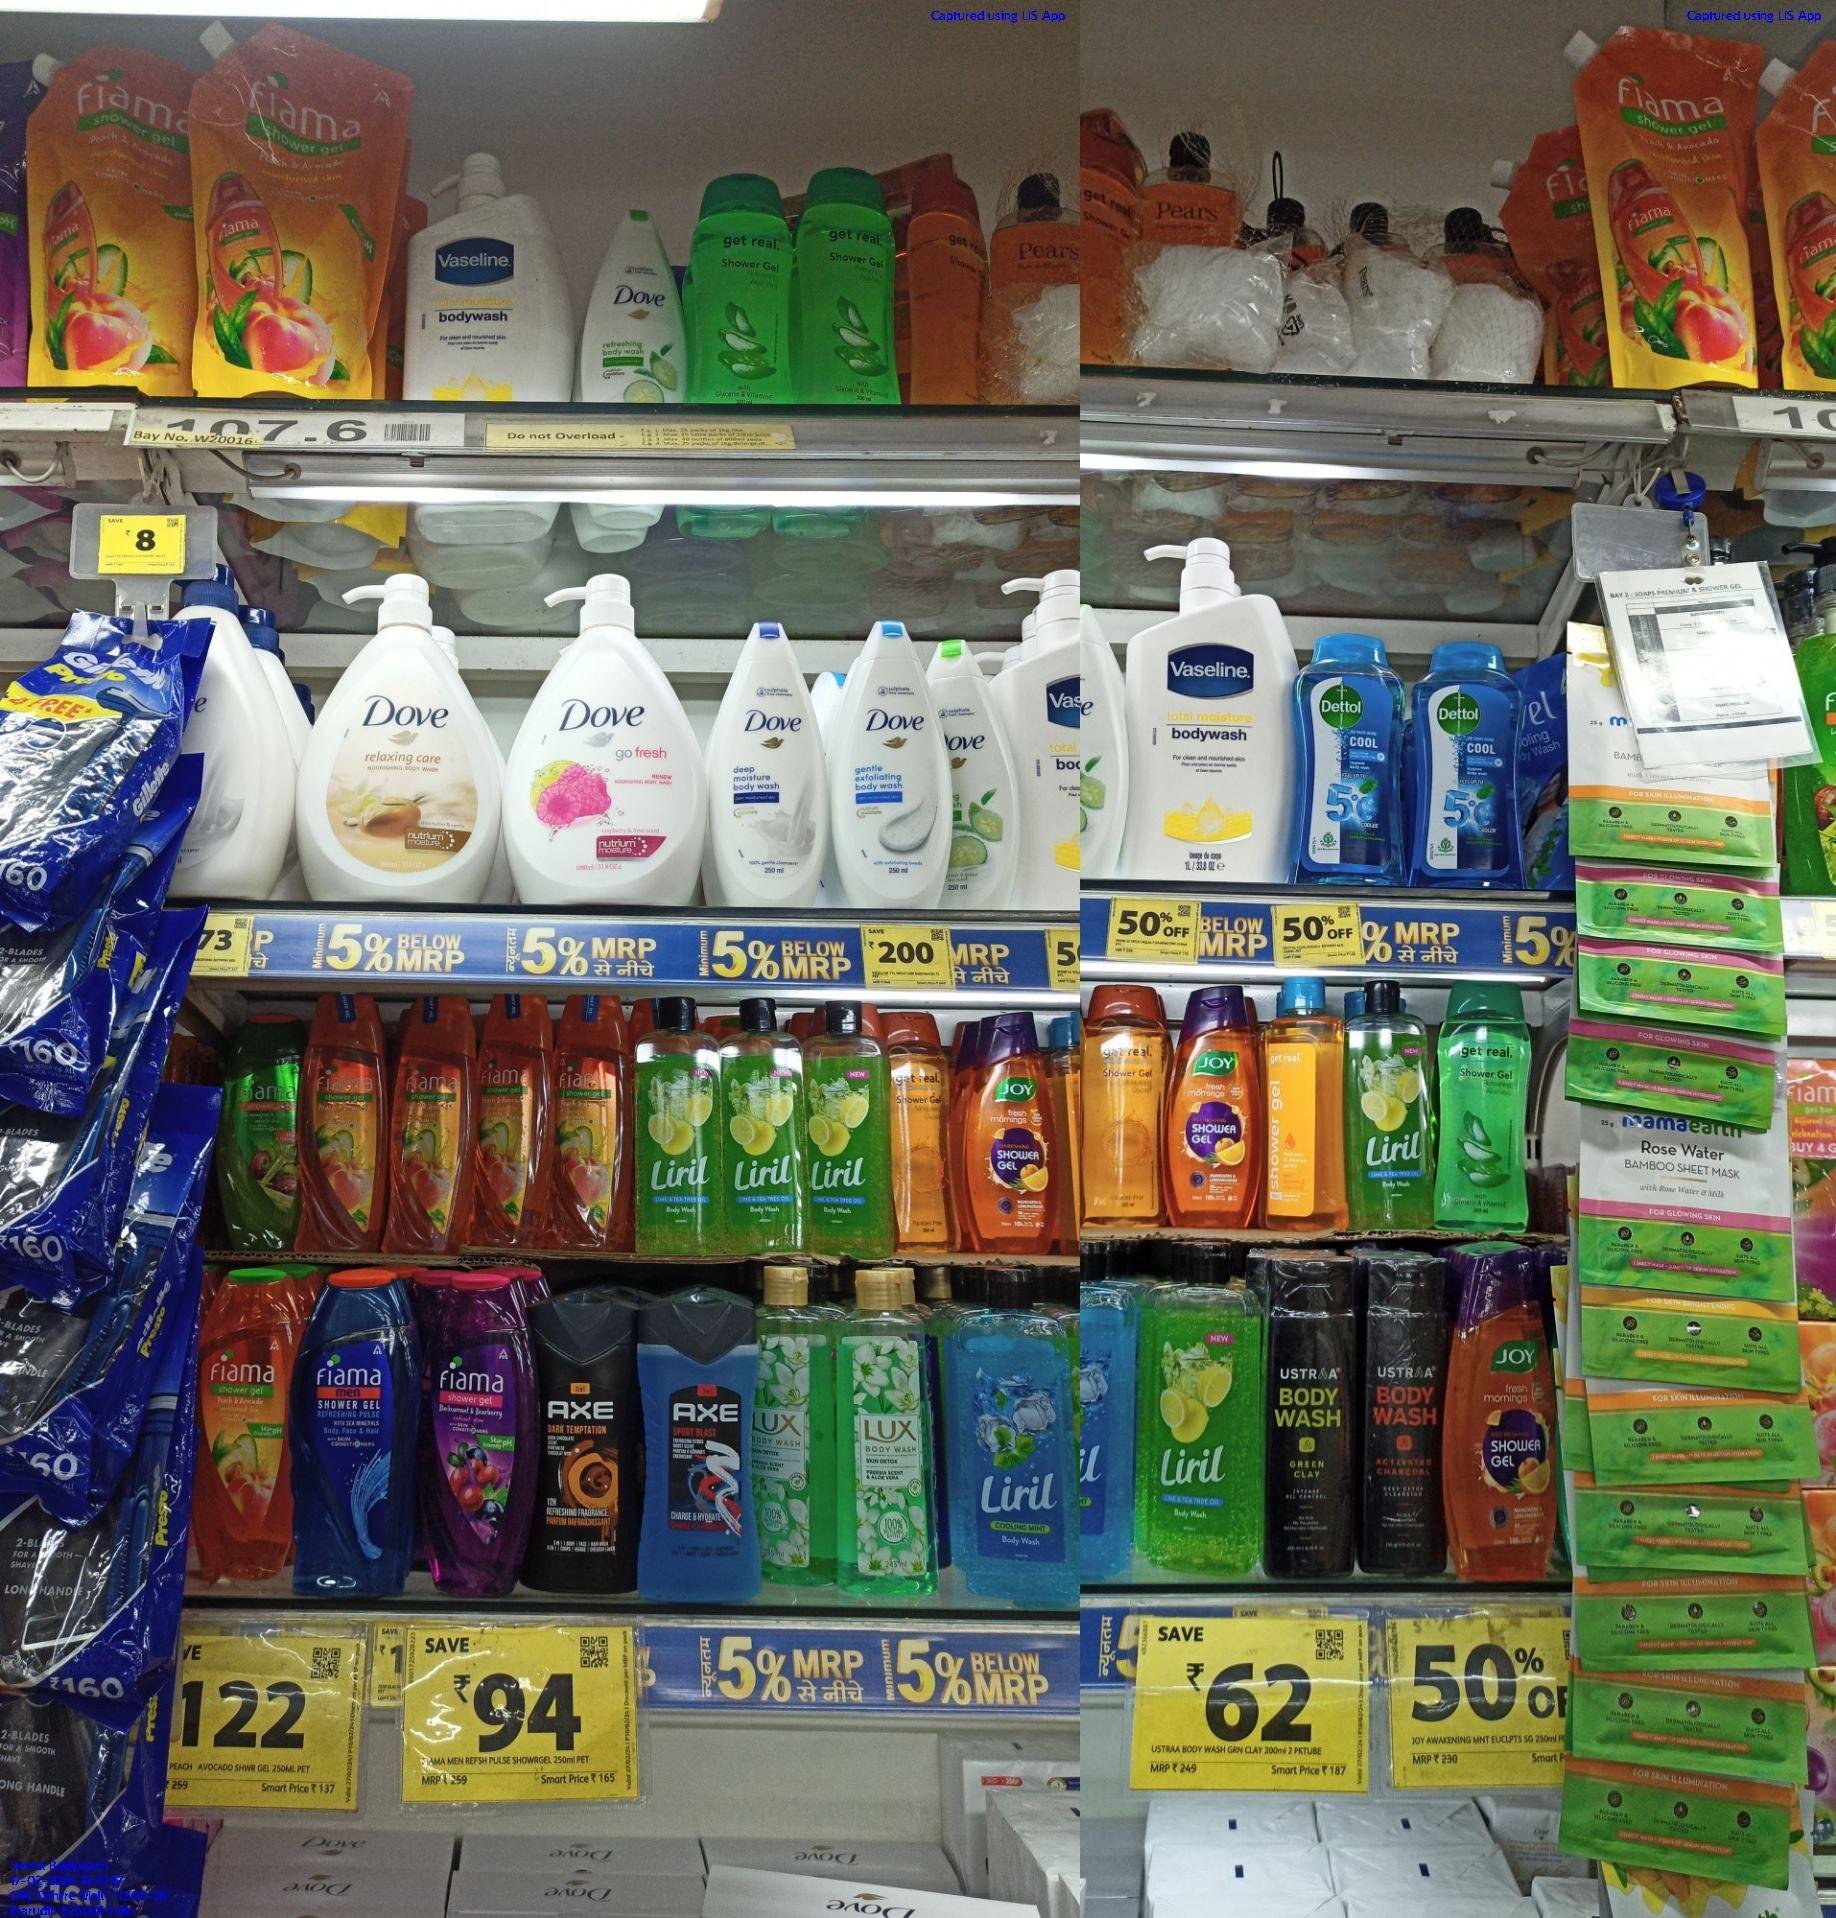Dettol_Bodywash_Cool: (1295, 634, 1406, 884), (1413, 642, 1523, 892)
Dove_Deep_Moisture_Body_Wash_250ML: (721, 618, 829, 913)
Dove_Gentle_Exfoliating_Body_Wash_250ML: (834, 618, 952, 909)
Fiama_Shower_Gel_Lemongrass_and_Jojoba_250ML: (223, 1010, 300, 1243)
Fiama_Shower_Gel_Peach_and_Avocado_250ML: (197, 1267, 288, 1577)
Get_Real_Shower_Gel_Moisturising_Glycerin_300ML: (1082, 976, 1161, 1233), (911, 171, 983, 411)
Joy_Shower_Gel_Mandarin_and_Lemongrass_250ML: (1447, 1247, 1553, 1575), (956, 1007, 1052, 1259), (1163, 985, 1257, 1230)
Liril_Cooling_Mint_Body_Wash_250ML: (952, 1264, 1077, 1606)
Liril_Lime_and_Tea_Tree_Oil_Body_Wash_250ML: (1146, 1243, 1264, 1572), (629, 1002, 721, 1252), (810, 1002, 899, 1259), (1343, 976, 1434, 1228), (724, 998, 807, 1247)
Lux_Body_Wash_Skin_Detox_Freesia_Scent_and_Alove_Vera_245ML: (843, 1266, 942, 1601), (759, 1264, 839, 1584)
